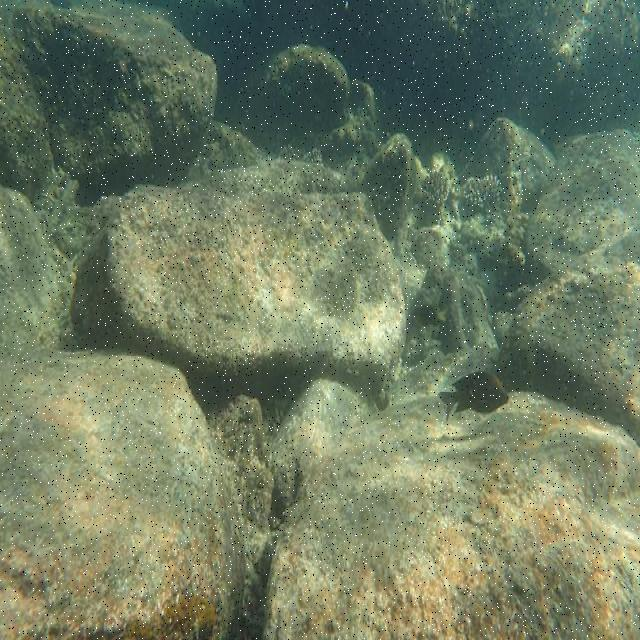fish: (438, 371, 509, 417)
sea-floor: (259, 379, 638, 638), (70, 158, 406, 406), (3, 348, 246, 639), (496, 262, 639, 442)
